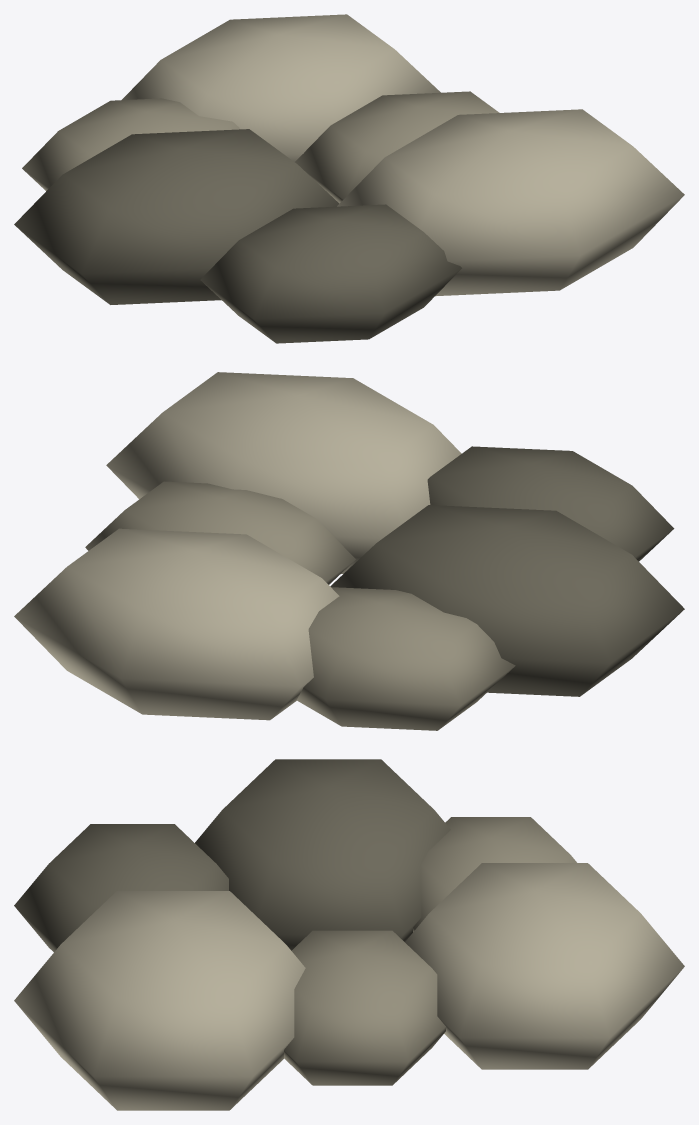
Rendered from pebbles.glb.
3 renders of one model, top to bottom at view 1: azimuth 30°, elevation 25°; view 2: azimuth 150°, elevation 25°; view 3: azimuth 270°, elevation 25°, orthographic. The views are drawn at different scales.
Parts seen in each view (by area): view 1: Pebbles; view 2: Pebbles; view 3: Pebbles.
Part boxes in pixels (x1,y1,x2,y2): Pebbles: (14,14,684,343); Pebbles: (14,372,684,730); Pebbles: (14,759,684,1110).
Bounding box in the file's own units: 0.6128 × 0.158 × 0.6044.
